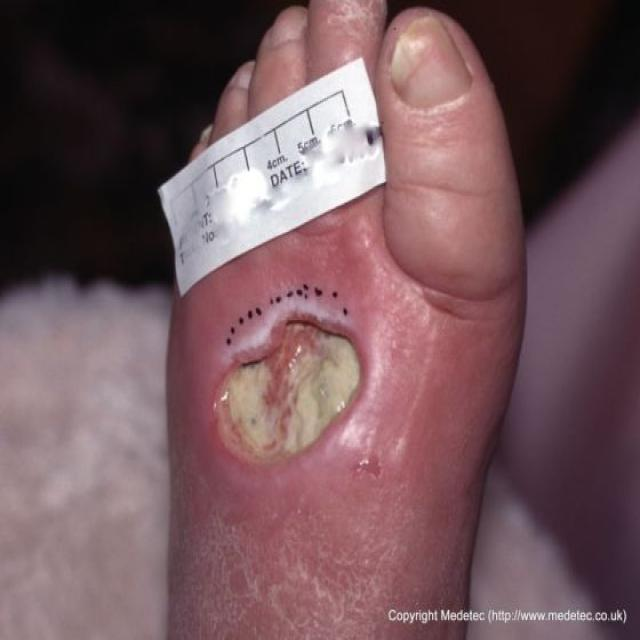wound: (212, 312, 361, 466)
